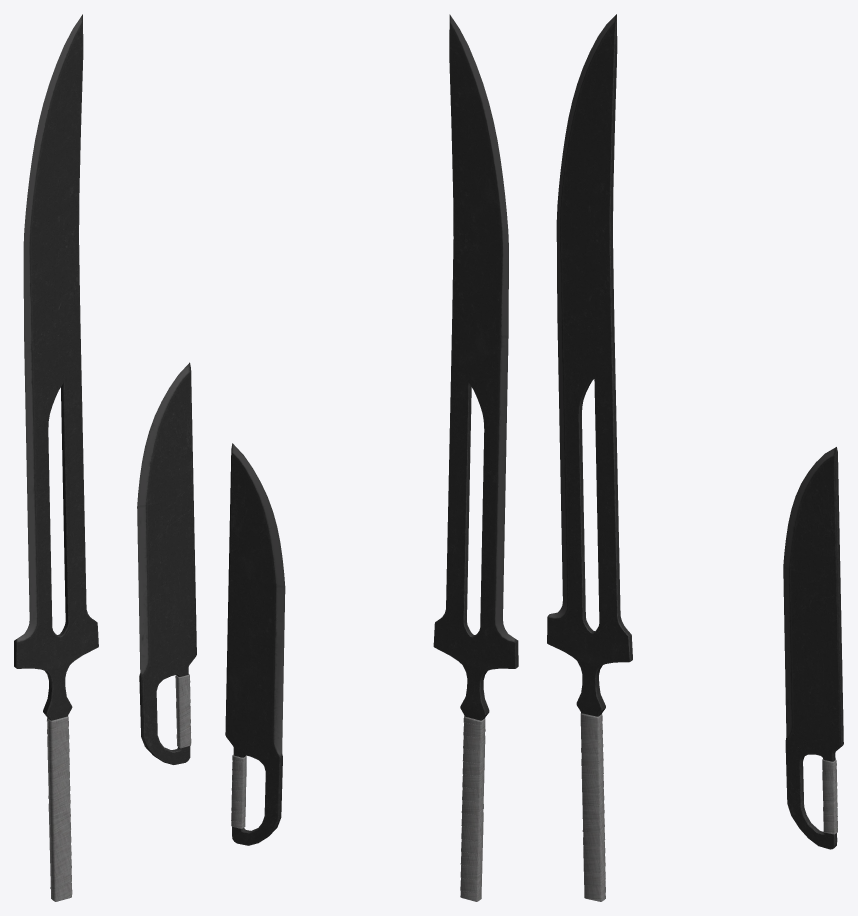
File: zangetsu.glb
The picture shows the model from 3 angles, left to right: view 1: azimuth 30°, elevation 25°; view 2: azimuth 150°, elevation 25°; view 3: azimuth 330°, elevation 25°; orthographic projection.
Parts seen in each view (by area): view 1: Zangetsu_Zangetsu_0; view 2: Zangetsu_Zangetsu_0; view 3: Zangetsu_Zangetsu_0.
Boxes of the visible parts, x1,y1,x2,y2 form: Zangetsu_Zangetsu_0: (14,14,196,901); Zangetsu_Zangetsu_0: (225,14,518,901); Zangetsu_Zangetsu_0: (547,14,843,901).
Size of the model in its own units: 0.4097 by 1.46 by 0.1788.
Materials: 1 (1 with a texture image).
